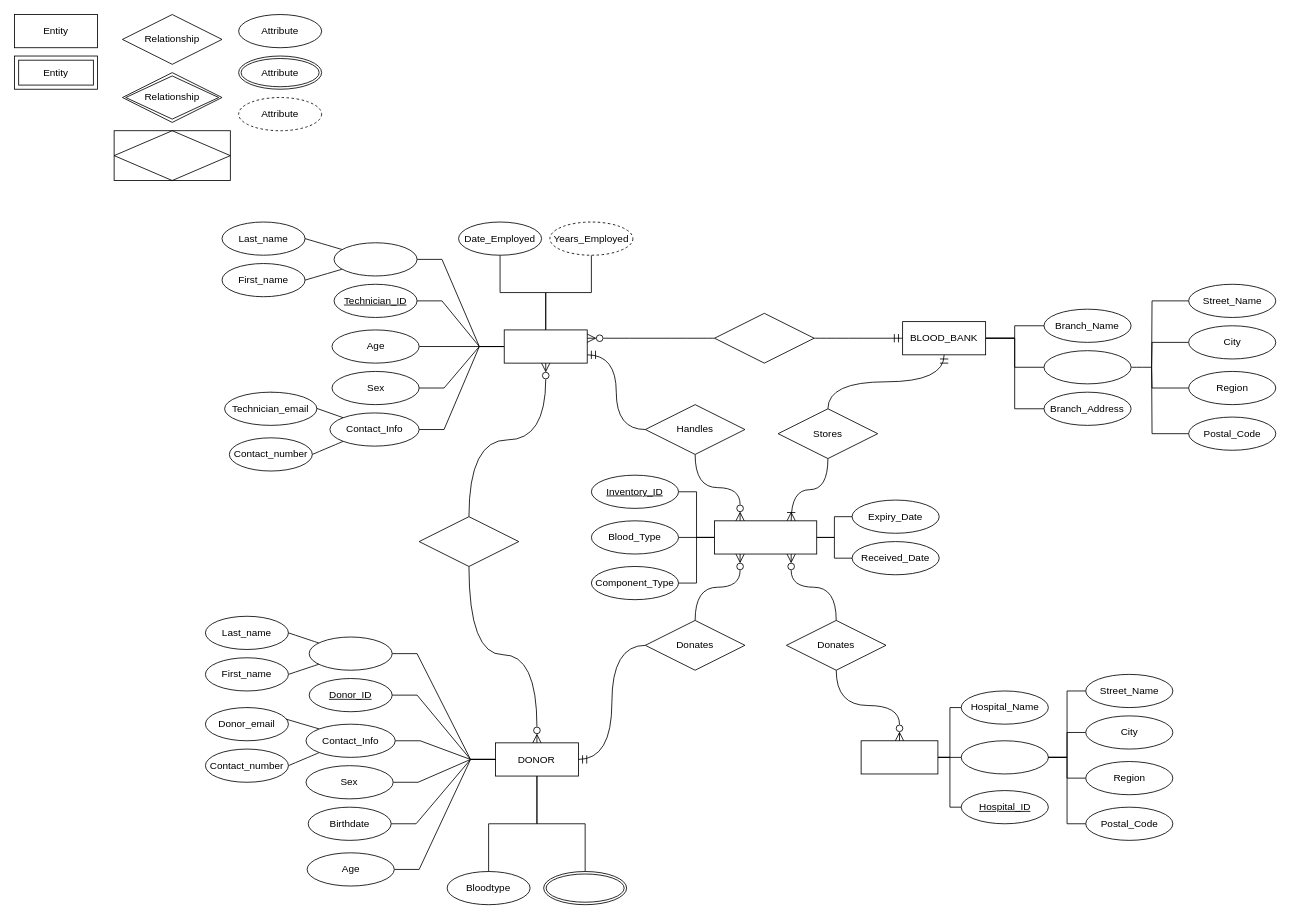
Some shapes in this 1291 by 920 pixel diagram are drawn without their labels. Each missing label, with the centre of its shape:
"Assigned_To" belongs at point (468, 541).
"Associative Entity" belongs at point (171, 155).
"Branch_ID" belongs at point (1087, 367).
"Donor_ name" belongs at point (350, 653).
"HOSPITAL" belongs at point (899, 757).
"Hospital_Address" belongs at point (1004, 757).
"INVENTORY" belongs at point (765, 537).
"Remarks" belongs at point (585, 888).
"TECHNICIAN" belongs at point (545, 346).
"Technician_ name" belongs at point (375, 259).
"Works" belongs at point (764, 337).
